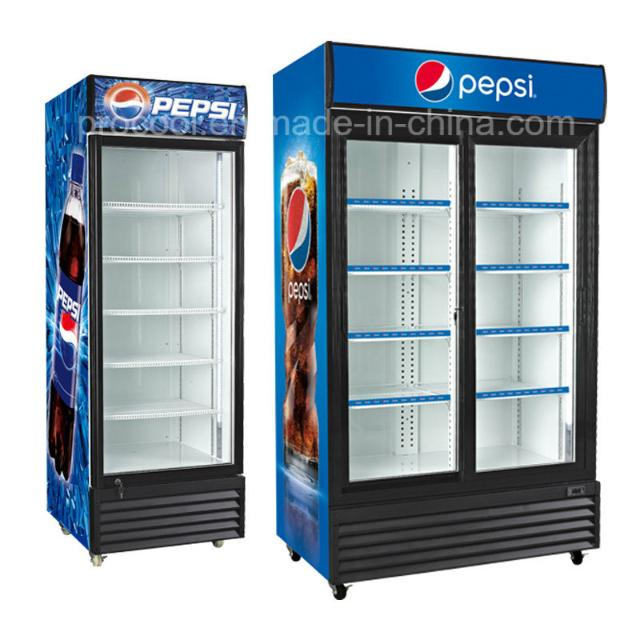Cooling-Display: (267, 34, 609, 606), (42, 67, 252, 577)
